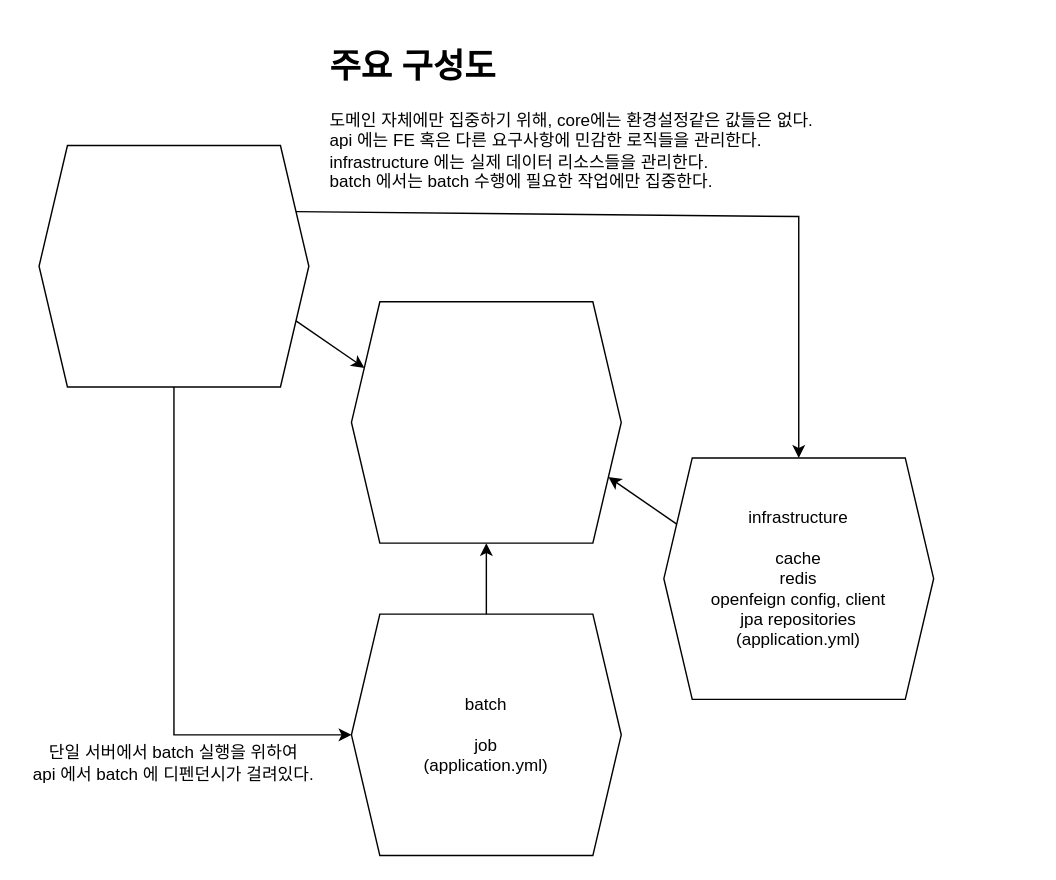
This 1056x880 diagram has some shape labels left out. The box of each missing label's shape, as (x1, y1, x2, y2) in pixels:
api controller application (usecase) exception (handler) (application.yml): (38, 144, 309, 387)
core domain aop event exception (base): (350, 300, 621, 543)
